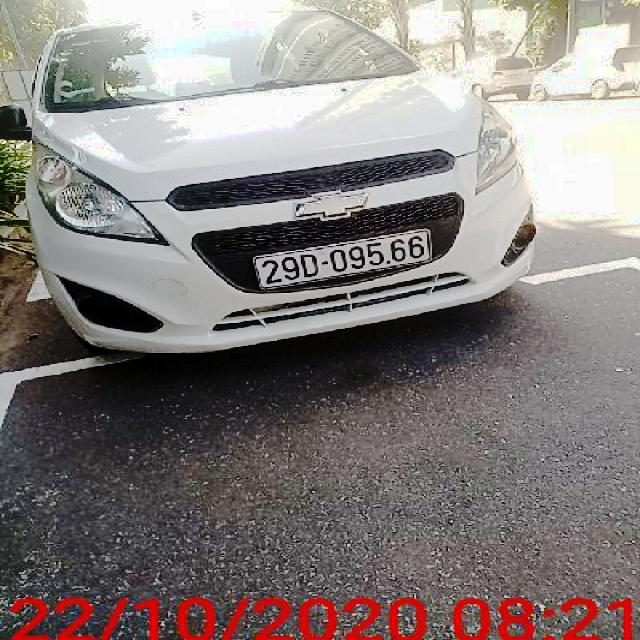license_plate: (255, 230, 433, 290)
